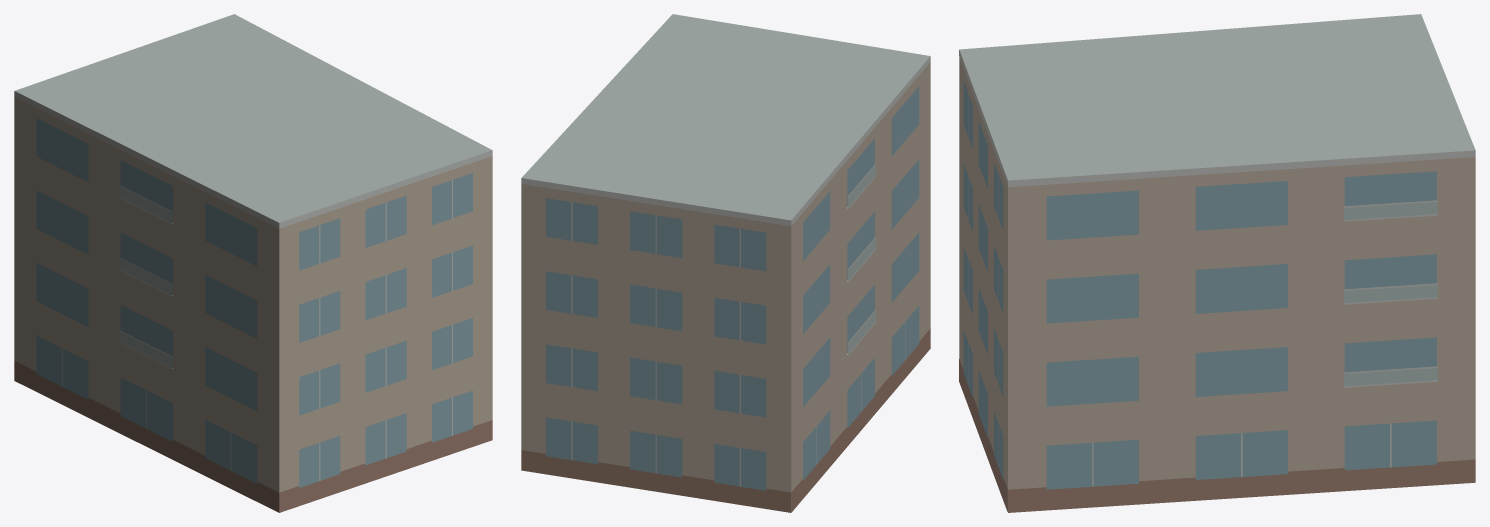
The model's file is survey-upis-32707849.glb.
The picture shows the model from 3 angles, left to right: view 1: azimuth 30°, elevation 25°; view 2: azimuth 150°, elevation 25°; view 3: azimuth 270°, elevation 25°; orthographic projection. The views are drawn at different scales.
Visible parts, largest first — view 1: survey-upis-32707849.tmp; view 2: survey-upis-32707849.tmp; view 3: survey-upis-32707849.tmp.
Boxes of the visible parts, x1,y1,x2,y2 form: survey-upis-32707849.tmp: (14, 14, 492, 512); survey-upis-32707849.tmp: (521, 14, 930, 512); survey-upis-32707849.tmp: (959, 14, 1475, 512).
Bounding box in the file's own units: 13.13 × 12.2 × 17.19.
